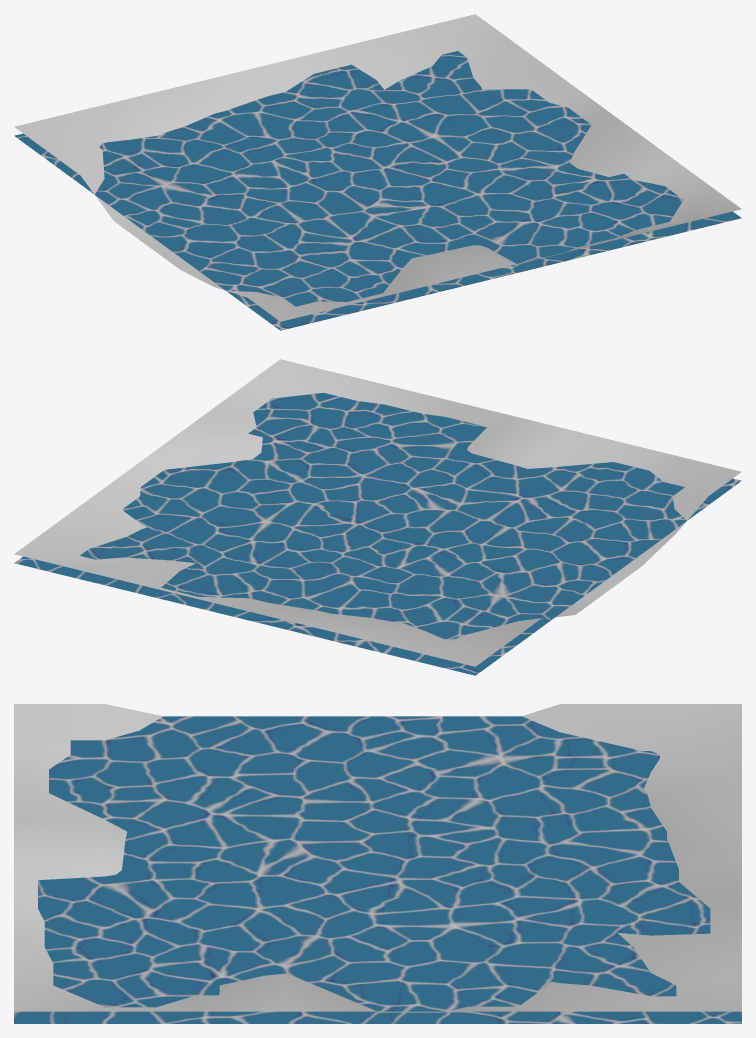
File: EndWaterTile.fbx
3 views of the same model, one above another, from view 1: azimuth 30°, elevation 25°; view 2: azimuth 150°, elevation 25°; view 3: azimuth 270°, elevation 25° (orthographic). The views are drawn at different scales.
Visible parts, largest first — view 1: WaterHole_End; view 2: WaterHole_End; view 3: WaterHole_End.
Boxes of the visible parts, <box> form: WaterHole_End: <box>14,14,741,330</box>; WaterHole_End: <box>14,359,741,675</box>; WaterHole_End: <box>14,704,741,1023</box>.
Size of the model in its own units: 100 by 15.51 by 100.
